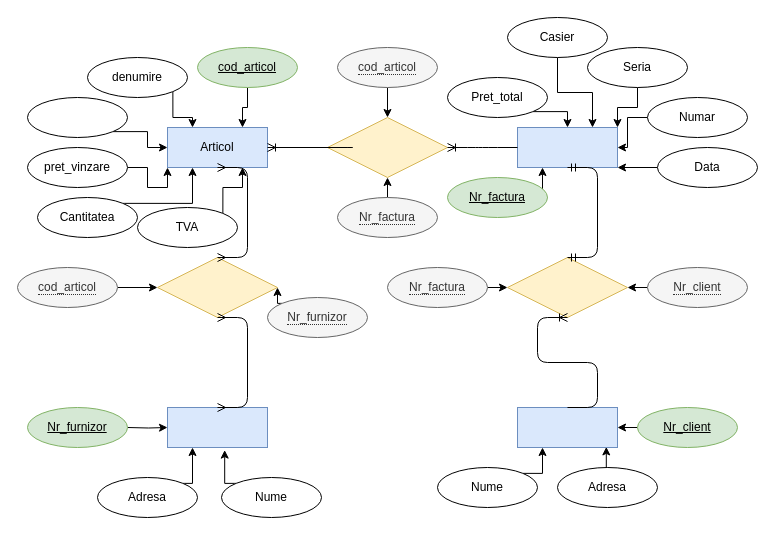
Some shapes in this 775 by 535 pixel diagram are drawn without their labels. Each missing label, with the box of its shape:
Apartine: (506, 256, 628, 318)
Client: (516, 406, 618, 448)
Contine: (326, 116, 448, 178)
Cumparare: (156, 256, 278, 318)
Factura: (516, 126, 618, 168)
Furnizor: (166, 406, 268, 448)
pret_uitate: (26, 96, 128, 138)
